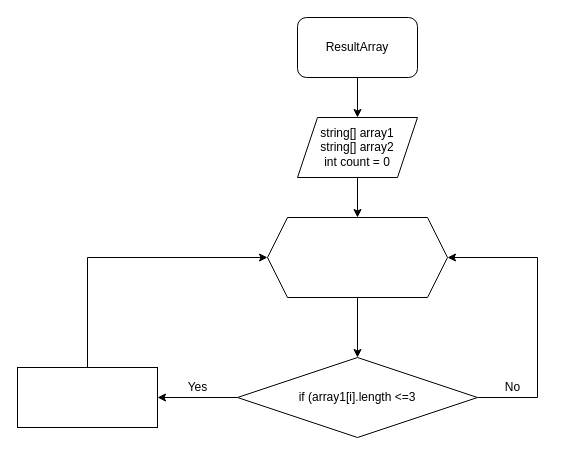
Image size: 563x455. Some labels were removed from this diagram. The shapes that lost their labels are listed below. From the top down, each one's centre as x and y in pixels, then its label:
point (357, 257): for (int i = 0; i < array1.length; i++)
point (87, 397): array2[count] = array1[i] count++;
